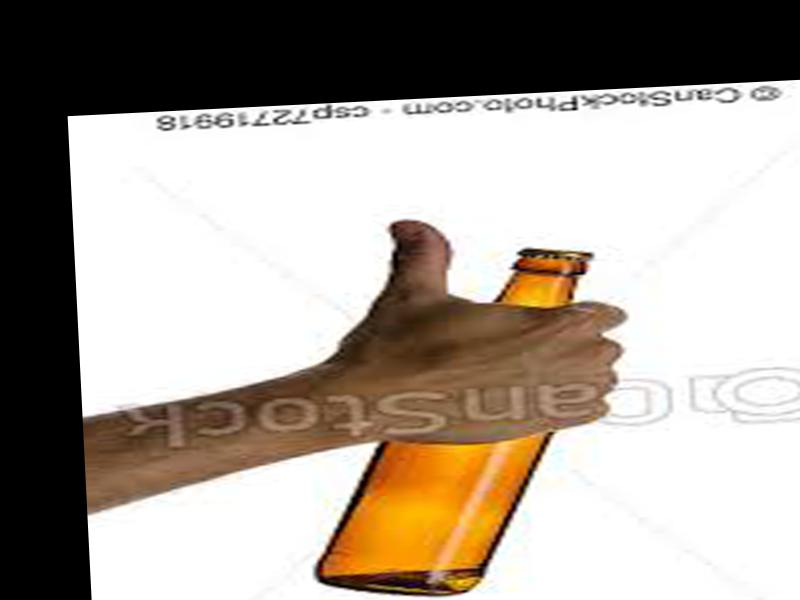Beer: (298, 248, 605, 600)
